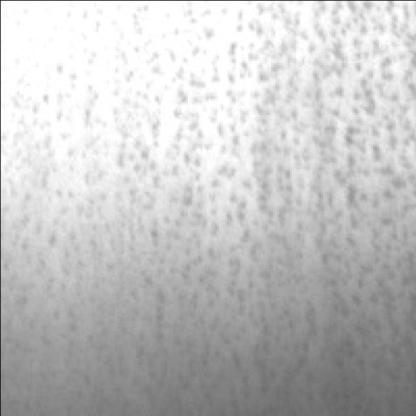pitted_surface: (23, 6, 410, 402)
